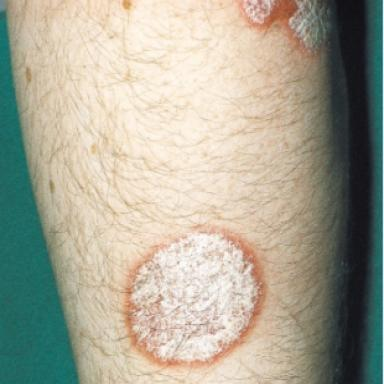Psoriasis: (127, 229, 263, 364), (240, 0, 330, 54)
